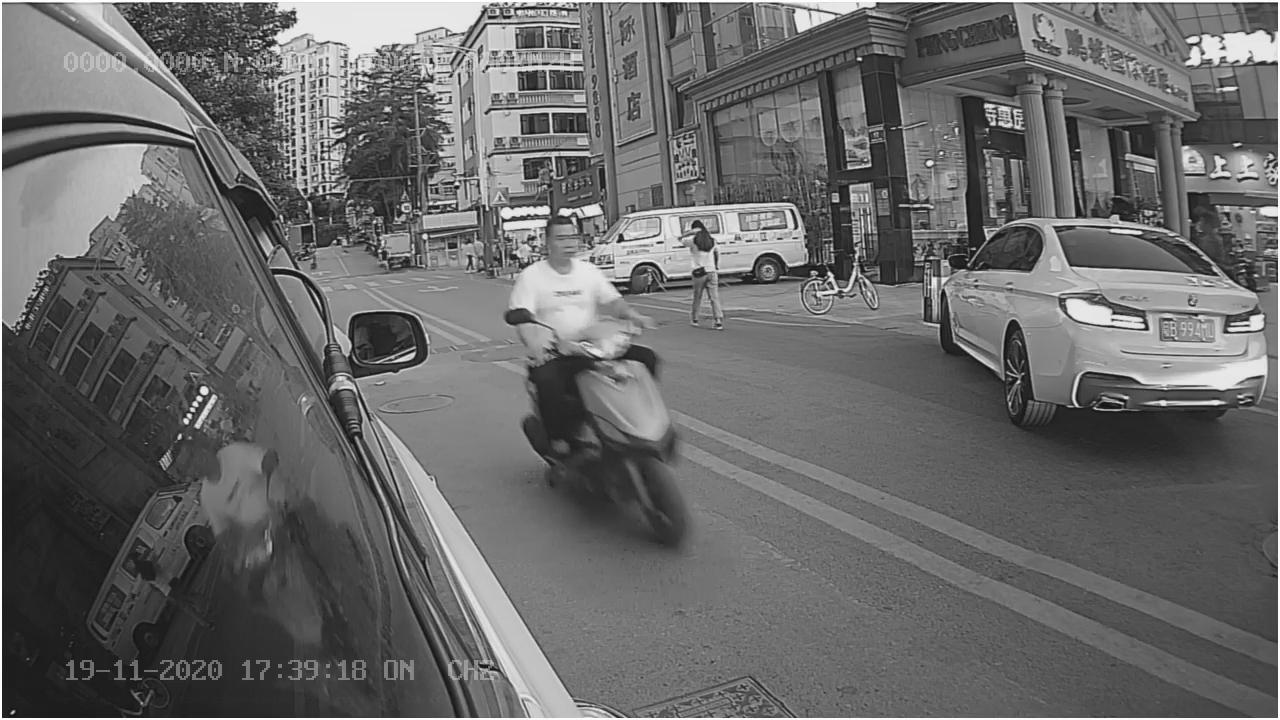person: (508, 219, 626, 358)
